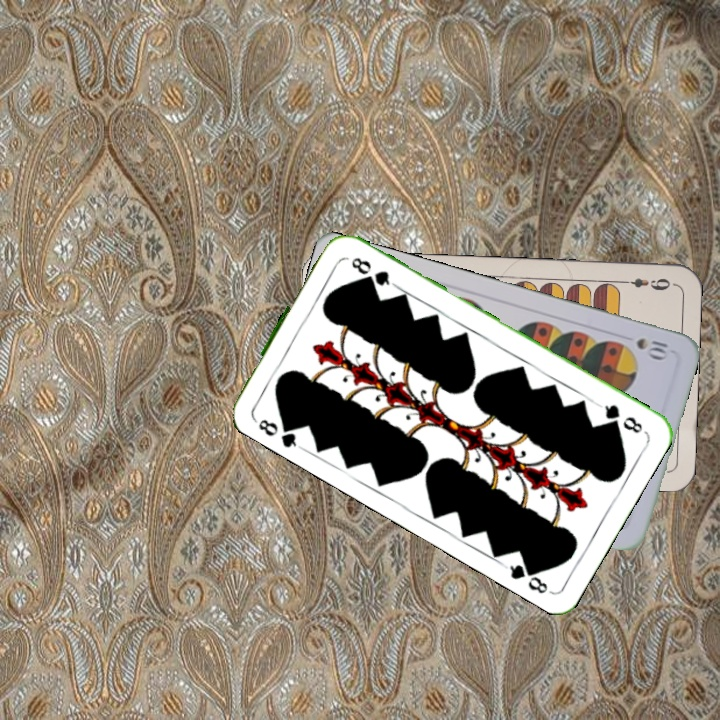E9: (617, 274, 673, 293)
G8: (249, 414, 302, 451), (594, 399, 646, 436)
S10: (632, 334, 672, 363)
